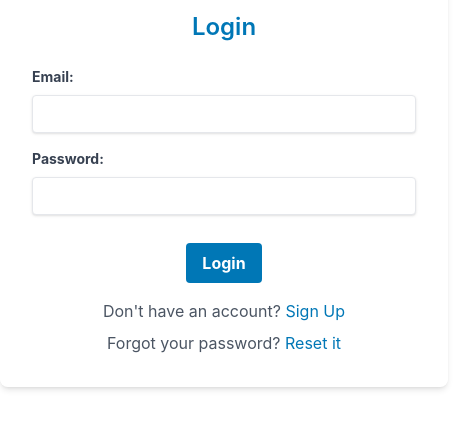
Login › displays error when login fails
Type "test@example.com" into the field labelled "Email:".
click(224, 114); type("test@example.com")  # box [32,95,416,133]
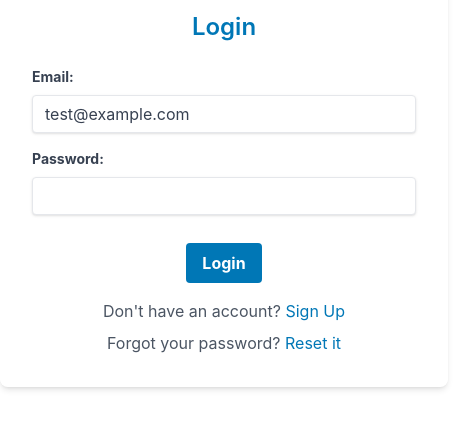
Type "wrongpassword" into the password field labelled "Password:".
click(224, 196); type("wrongpassword")  # box [32,177,416,215]
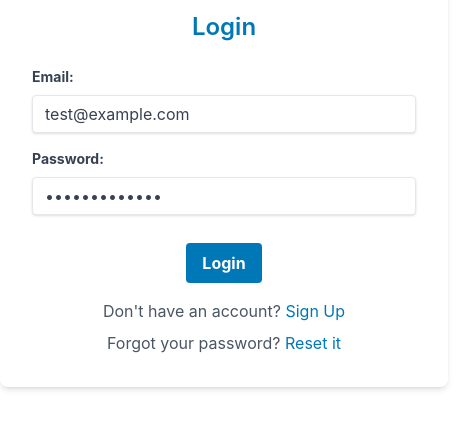
Click the button "Login".
click(224, 263)  # box [186,243,262,283]
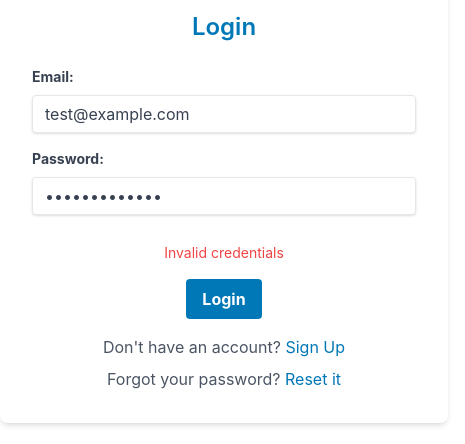
Expected: the text "Invalid credentials" is shown, [164,244,284,261]
